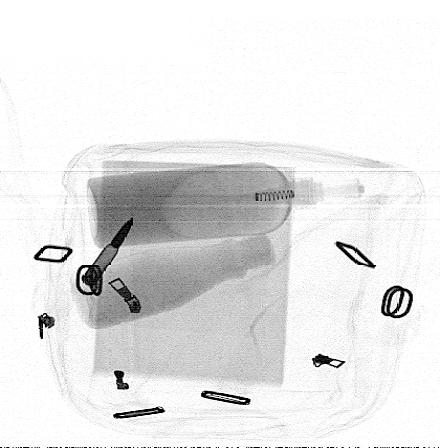Bullet: (80, 216, 134, 286)
